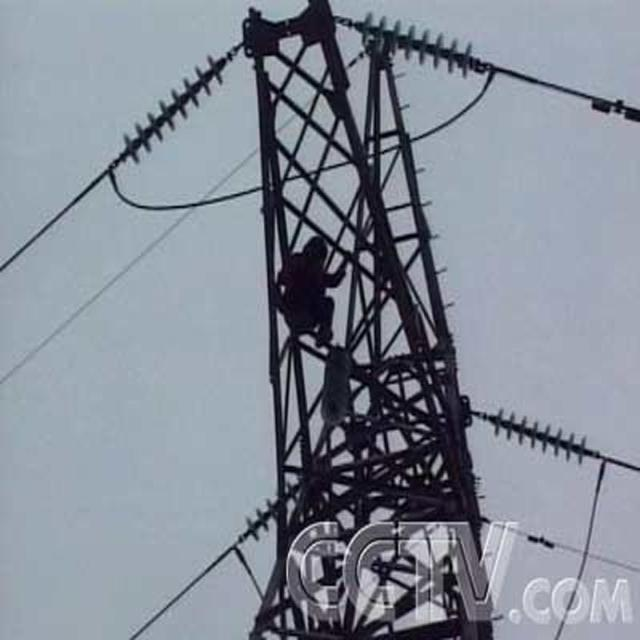non-critical vegetation: (95, 2, 542, 634)
